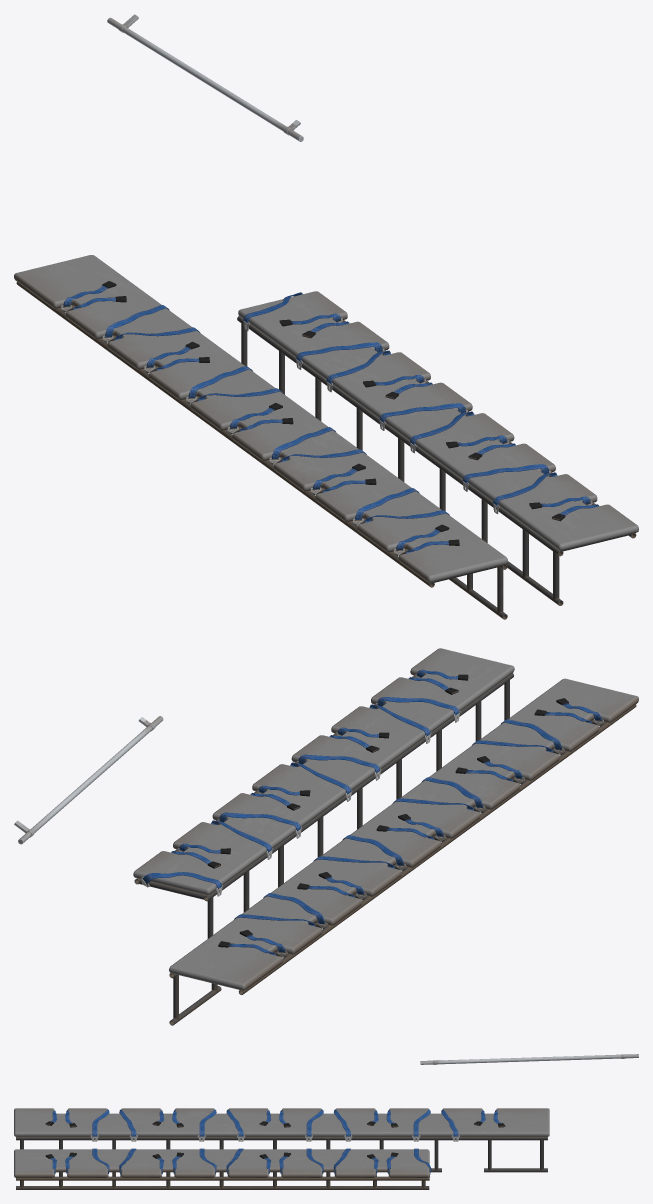
File: Chair_Skydive.gltf
The picture shows the model from 3 angles, top to bottom: view 1: azimuth 30°, elevation 25°; view 2: azimuth 150°, elevation 25°; view 3: azimuth 270°, elevation 25°; orthographic projection. The views are drawn at different scales.
Parts seen in each view (by area): view 1: SKY_Plane.186, SKY_Plane.223, SKY_Circle.632, SKY_Handle_Int, SKY_Plane.247, SKY_Plane.253, SKY_Plane.250; view 2: SKY_Plane.186, SKY_Plane.223, SKY_Circle.632, SKY_Handle_Int, SKY_Plane.240, SKY_Plane.243, SKY_Plane.237, SKY_Plane.253, SKY_Plane.247, SKY_Plane.250; view 3: SKY_Plane.186, SKY_Plane.223, SKY_Circle.632, SKY_Handle_Int, SKY_Plane.237, SKY_Plane.240, SKY_Plane.243, SKY_Plane.250, SKY_Plane.253, SKY_Plane.247.
Part boxes in pixels (x1,y1,x2,y2): SKY_Plane.186: (14, 255, 507, 582); SKY_Plane.223: (238, 291, 638, 550); SKY_Circle.632: (16, 282, 636, 619); SKY_Handle_Int: (107, 14, 303, 141); SKY_Plane.247: (188, 342, 382, 398); SKY_Plane.253: (355, 464, 548, 520); SKY_Plane.250: (271, 403, 465, 459); SKY_Plane.186: (169, 678, 638, 990); SKY_Plane.223: (133, 648, 514, 895); SKY_Circle.632: (134, 673, 636, 1025); SKY_Handle_Int: (14, 716, 163, 844); SKY_Plane.240: (298, 754, 482, 807); SKY_Plane.243: (377, 697, 561, 749); SKY_Plane.237: (219, 812, 403, 865); SKY_Plane.253: (369, 704, 553, 752); SKY_Plane.247: (211, 820, 394, 868); SKY_Plane.250: (290, 762, 473, 810); SKY_Plane.186: (14, 1108, 549, 1136); SKY_Plane.223: (14, 1149, 429, 1177); SKY_Circle.632: (16, 1136, 547, 1189); SKY_Handle_Int: (420, 1054, 638, 1064); SKY_Plane.237: (306, 1109, 323, 1174); SKY_Plane.240: (199, 1109, 216, 1174); SKY_Plane.243: (92, 1109, 109, 1173); SKY_Plane.250: (226, 1109, 243, 1174); SKY_Plane.253: (119, 1109, 136, 1174); SKY_Plane.247: (333, 1109, 350, 1174).
Bounding box in the file's own units: 1.21 × 1.27 × 4.8.
